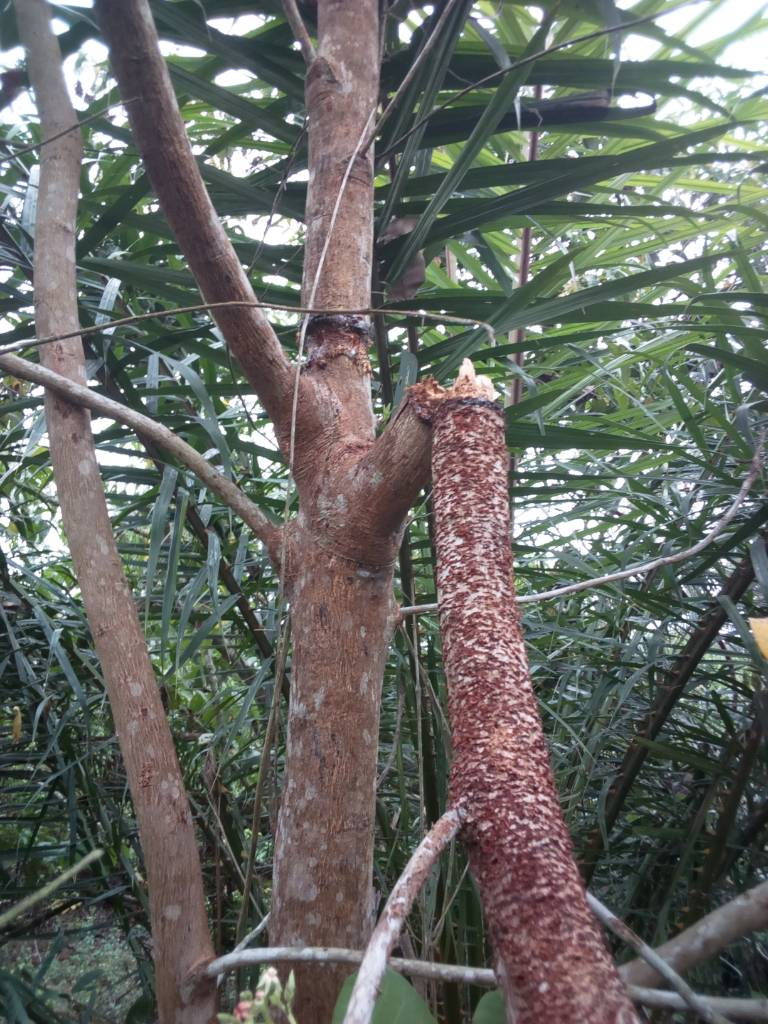Analepse trifasciata: (402, 367, 529, 464), (282, 305, 393, 383)
